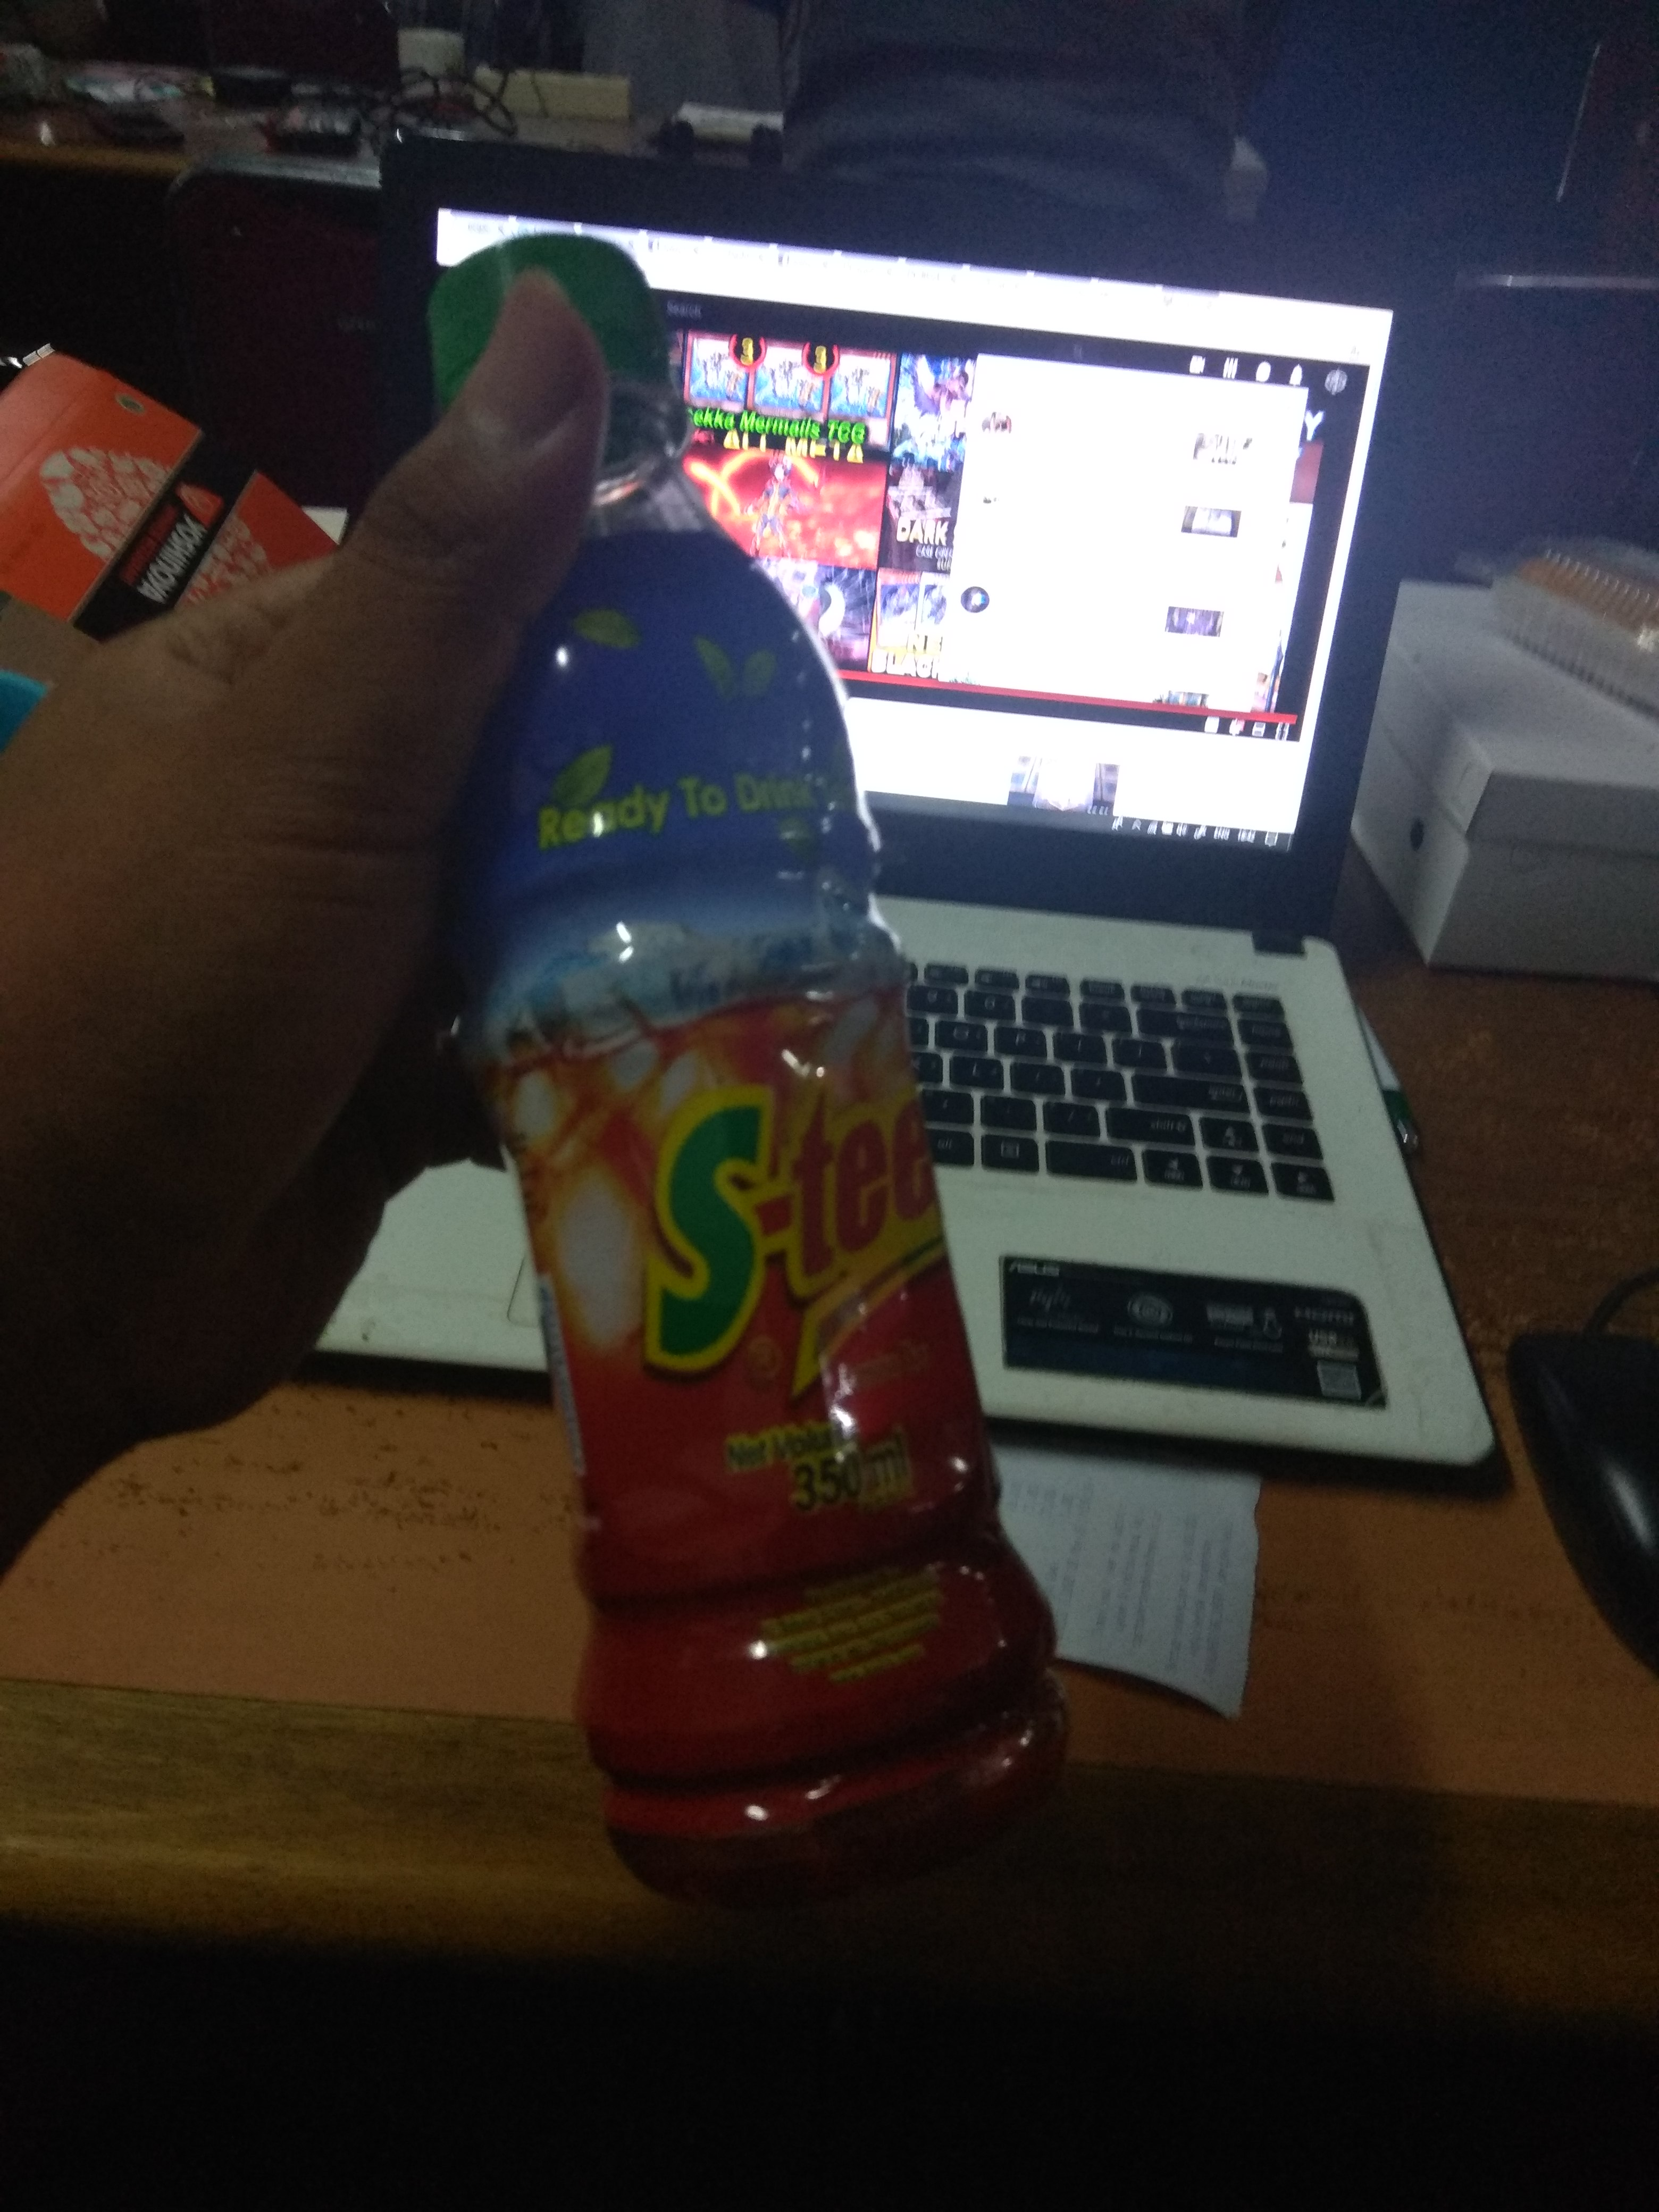botol: (389, 239, 1065, 1905), (423, 239, 1065, 1905)
